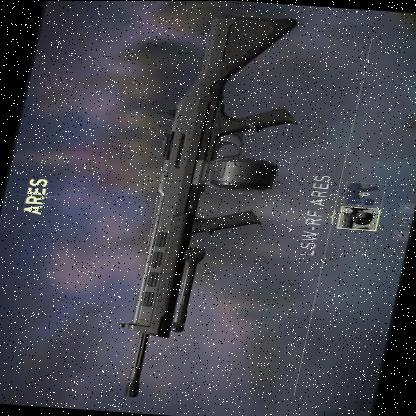rifle: (104, 8, 328, 406)
